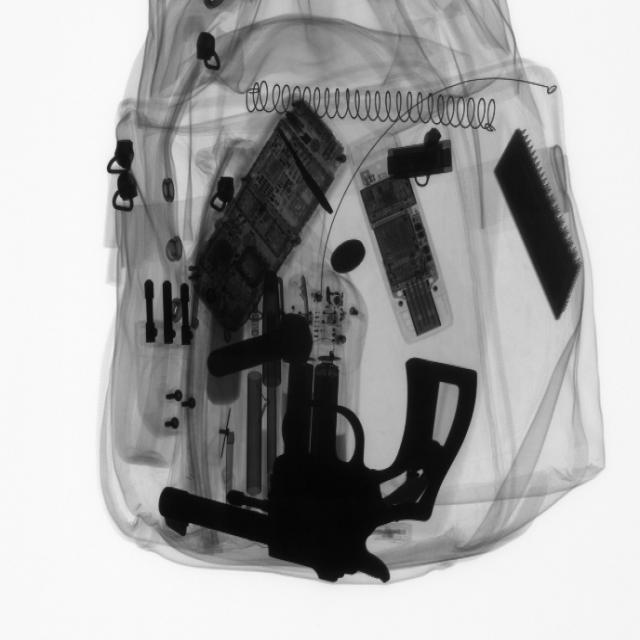GUN: (179, 347, 490, 588)
